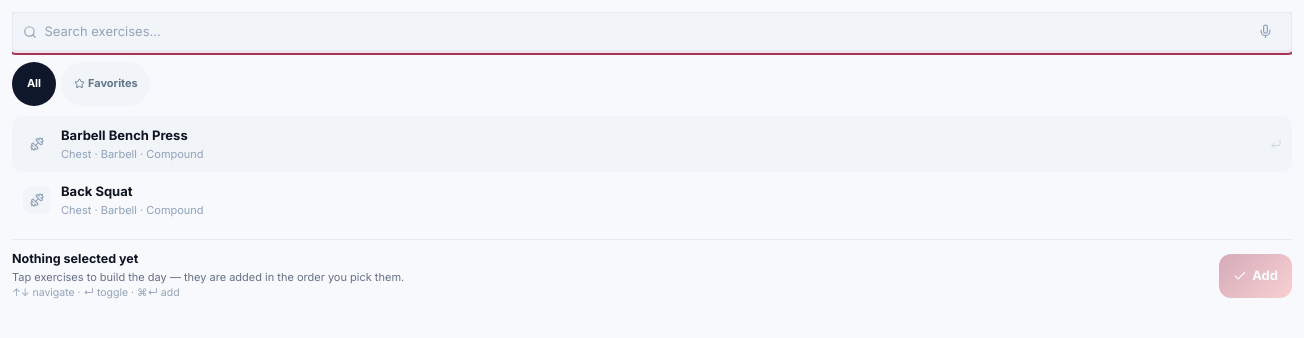
when it does not work › says so when it heard nothing
Click the button named "search by voice" at (1266, 32), box [1246, 12, 1285, 51]
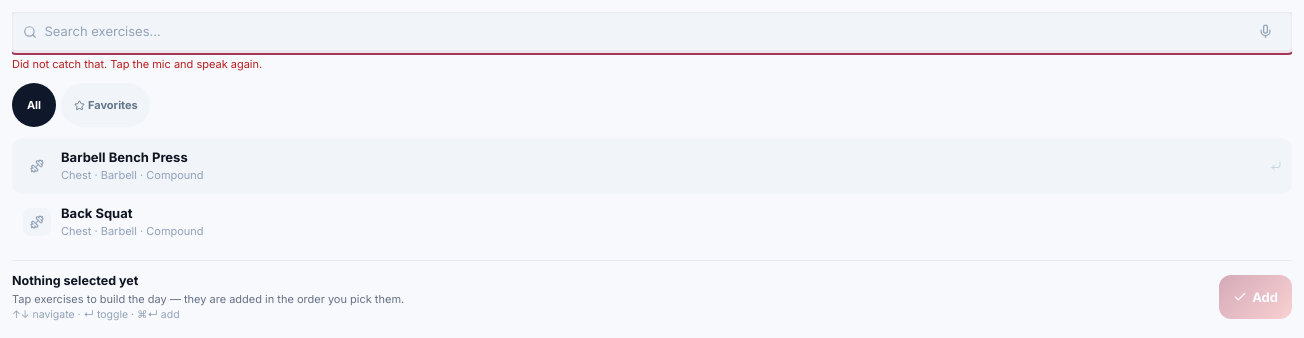
Expected: the message shows "Did not catch that", [12, 57, 262, 71]
